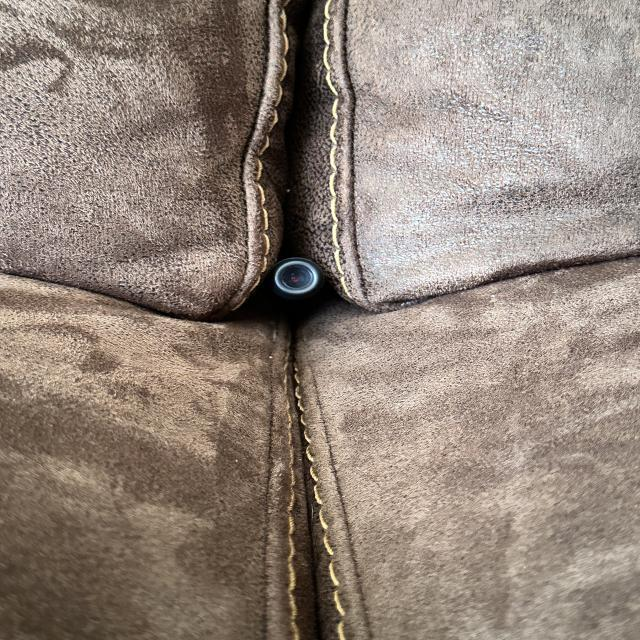hidden camera: (273, 256, 320, 299)
